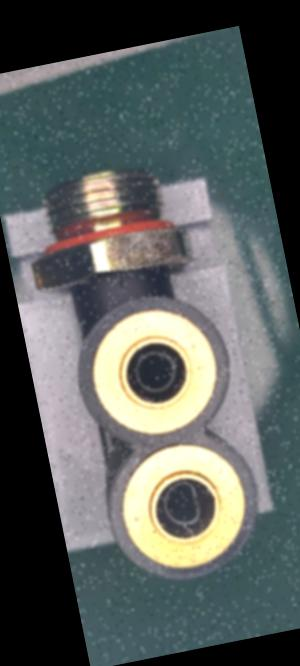craze: (112, 266, 131, 295)
off-centered: (152, 474, 214, 532)
